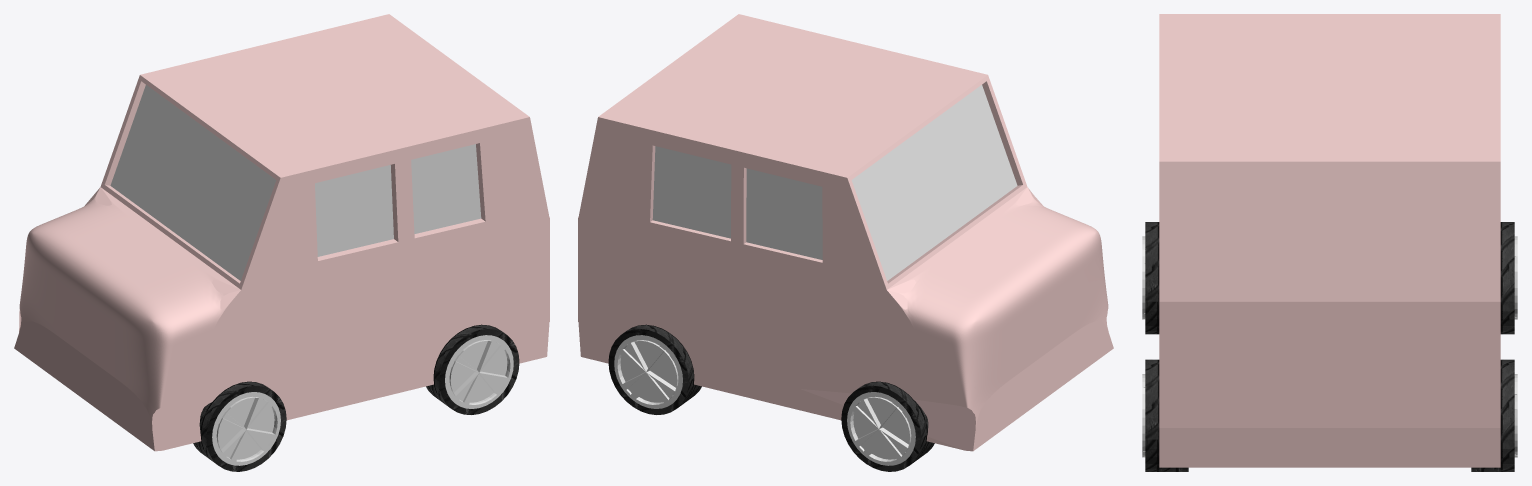
File: car.fbx
3 views of the same model, side by side, from view 1: azimuth 30°, elevation 25°; view 2: azimuth 150°, elevation 25°; view 3: azimuth 270°, elevation 25° (orthographic). The views are drawn at different scales.
Parts seen in each view (by area): view 1: Cube, Cube.002, Cube.003, Cube.004, Cylinder.003, Cylinder.005, Cylinder.006, Cylinder.007; view 2: Cube, Cube.002, Cube.005, Cube.006, Cylinder.001, Cylinder.004, Cylinder, Cylinder.002; view 3: Cube, Cylinder.002, Cylinder.007, Cylinder, Cylinder.006.
Boxes of the visible parts, x1,y1,x2,y2 form: Cube: [14, 14, 549, 451]; Cube.002: [110, 85, 276, 280]; Cube.003: [315, 165, 393, 256]; Cube.004: [411, 144, 481, 233]; Cylinder.003: [445, 335, 513, 408]; Cylinder.005: [212, 392, 280, 465]; Cylinder.006: [193, 381, 286, 471]; Cylinder.007: [426, 324, 519, 414]; Cube: [578, 14, 1113, 451]; Cube.002: [851, 85, 1017, 280]; Cube.005: [652, 146, 731, 238]; Cube.006: [746, 168, 822, 259]; Cylinder.001: [614, 335, 682, 408]; Cylinder.004: [847, 392, 915, 465]; Cylinder: [841, 381, 934, 471]; Cylinder.002: [608, 324, 701, 414]; Cube: [1159, 14, 1500, 467]; Cylinder.002: [1471, 359, 1514, 471]; Cylinder.007: [1145, 359, 1188, 471]; Cylinder: [1500, 222, 1514, 334]; Cylinder.006: [1145, 222, 1159, 334].
Size of the model in its own units: 136 by 91.64 by 92.04.
Materials: 4 (1 with a texture image).
